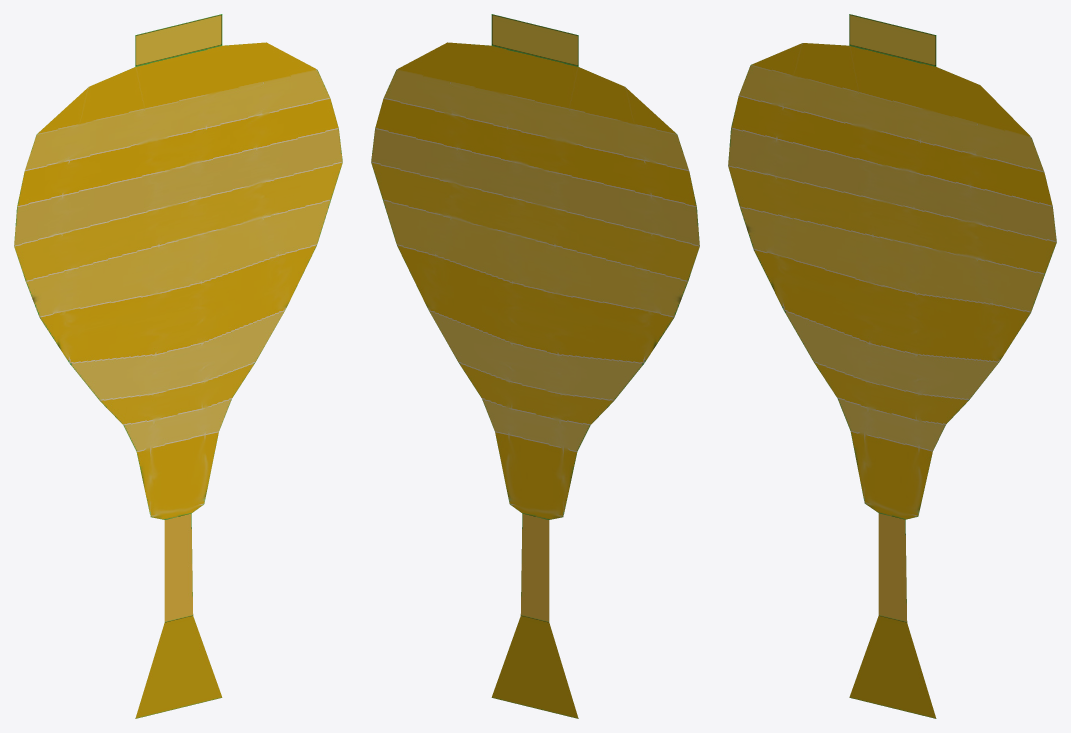
The model's file is yellow_balloon.obj.
The picture shows the model from 3 angles, left to right: view 1: azimuth 30°, elevation 25°; view 2: azimuth 150°, elevation 25°; view 3: azimuth 330°, elevation 25°; orthographic projection.
Parts seen in each view (by area): view 1: Plane006; view 2: Plane006; view 3: Plane006.
Part boxes in pixels (box(x1,y1,x2,y2)): Plane006: box(14, 14, 342, 718); Plane006: box(371, 14, 699, 718); Plane006: box(728, 14, 1056, 718).
Size of the model in its own units: 0.7909 by 1.57 by 0.
1 material, 1 textured.
